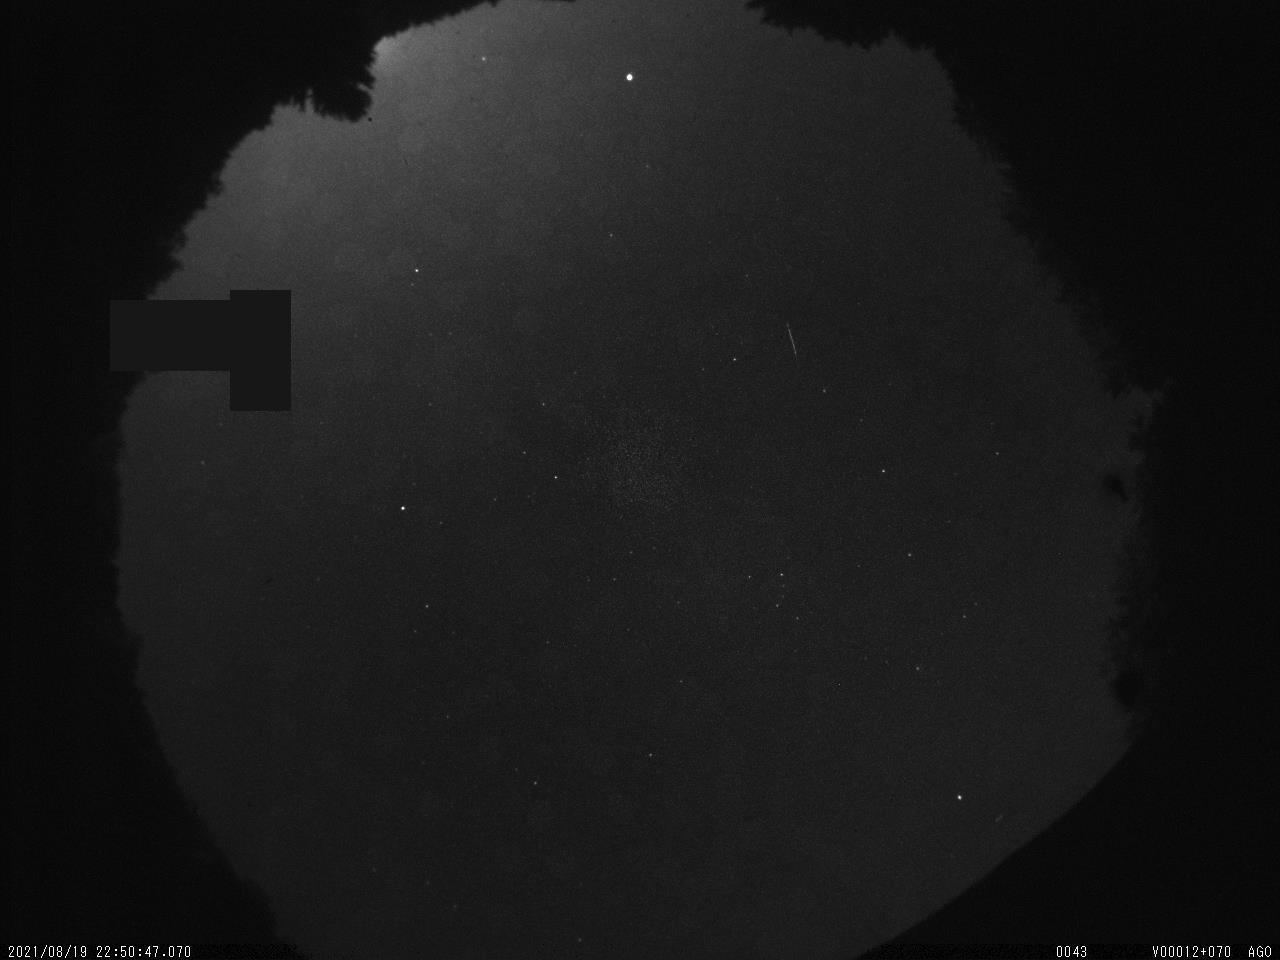meteor: (779, 306, 804, 379)
